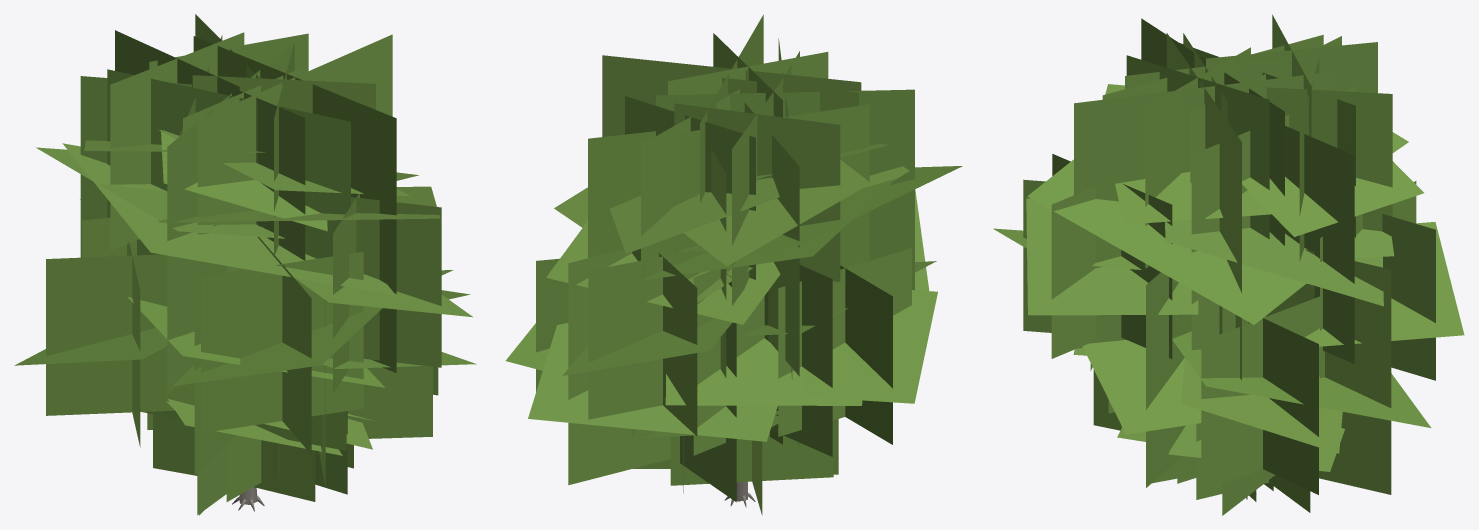
The model's file is tilleul_1_loin.glb.
3 views of the same model, side by side, from view 1: azimuth 30°, elevation 25°; view 2: azimuth 150°, elevation 25°; view 3: azimuth 270°, elevation 25° (orthographic). The views are drawn at different scales.
Visible parts, largest first — view 1: Tilleul_T1_Leger_Loin; view 2: Tilleul_T1_Leger_Loin; view 3: Tilleul_T1_Leger_Loin.
Part boxes in pixels (x1,y1,x2,y2): Tilleul_T1_Leger_Loin: (14,14,476,515); Tilleul_T1_Leger_Loin: (505,14,962,515); Tilleul_T1_Leger_Loin: (993,14,1464,515).
Bounding box in the file's own units: 7.07 × 7.31 × 7.4.
